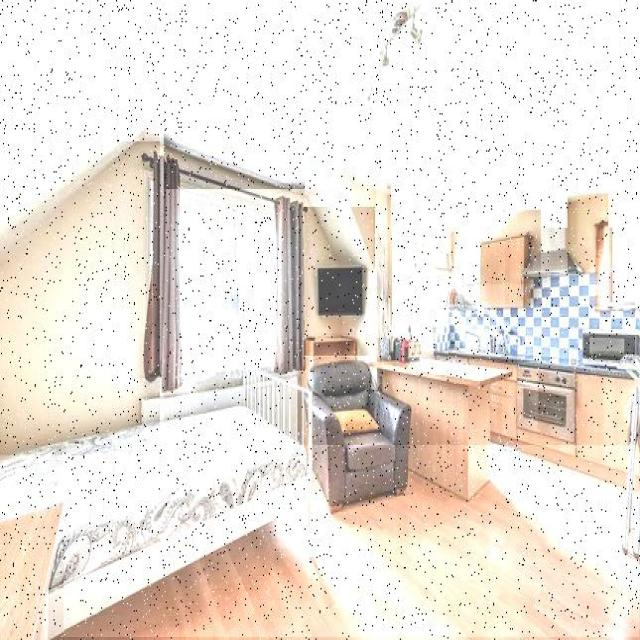Wall: (64, 446, 640, 637), (146, 0, 640, 189), (0, 0, 164, 455), (0, 142, 160, 455), (391, 70, 640, 228), (449, 274, 640, 362), (305, 178, 387, 357), (304, 208, 375, 356), (392, 214, 450, 335), (451, 211, 541, 284), (569, 195, 608, 274)
